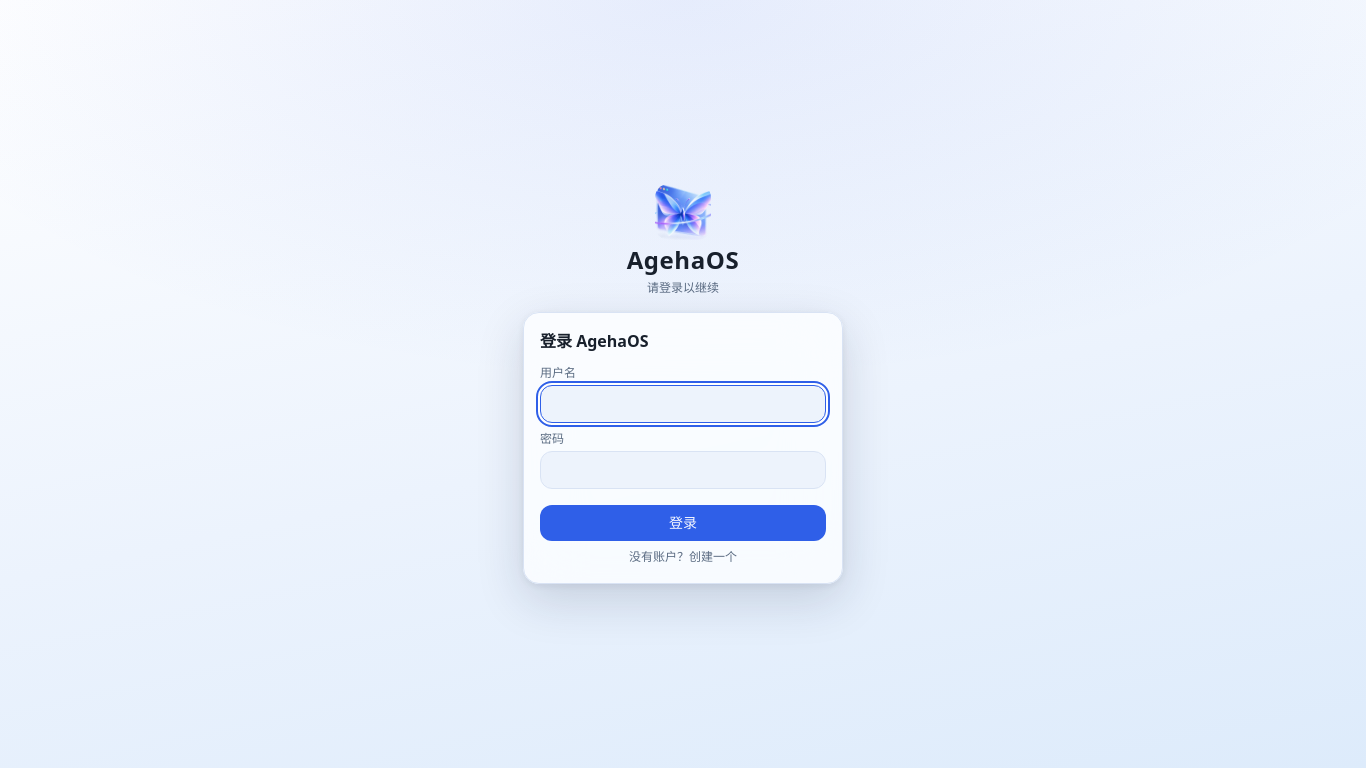
Test: LoginScreen › resets busy even when the sign-in action rejects unexpectedly (E2 审查)
Type "alice" into the field labelled "用户名" at (683, 404), box left=540, top=385, right=826, bottom=423
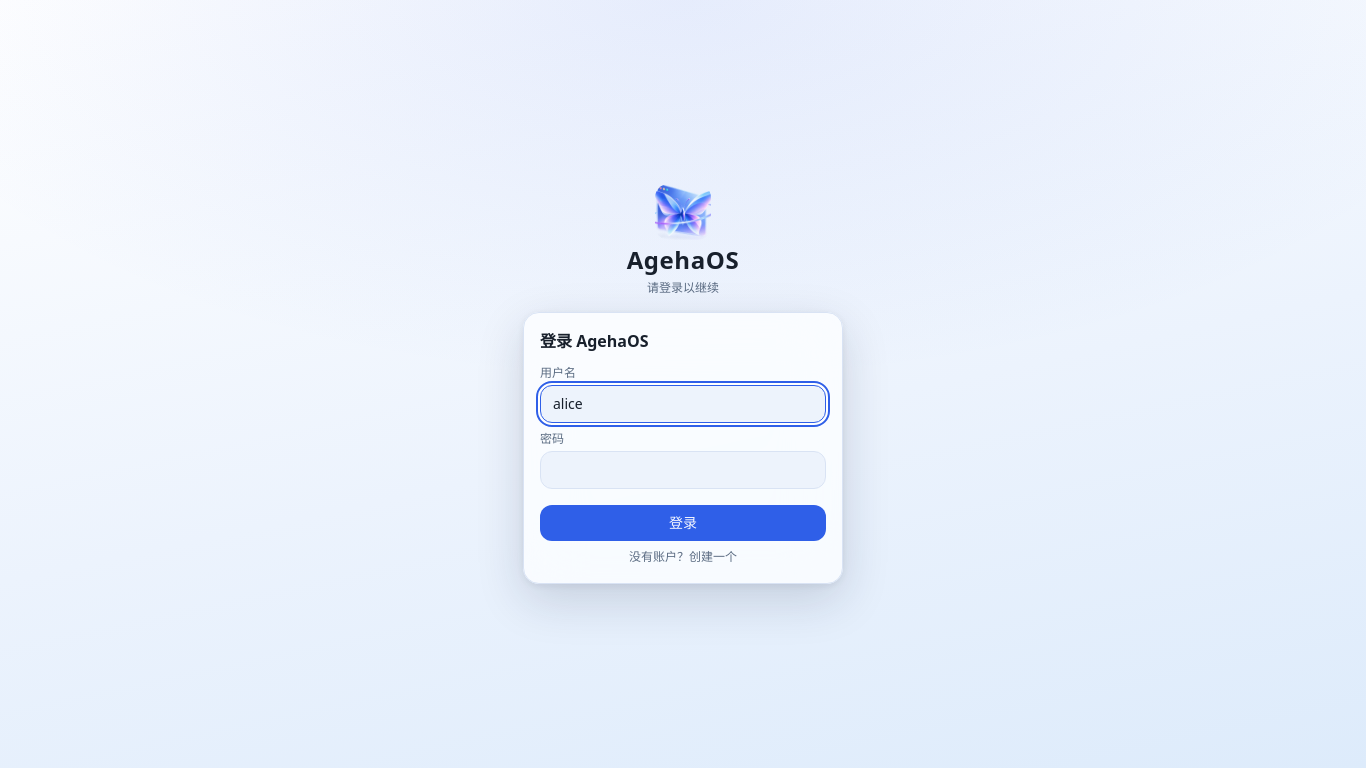
Type "secret123" into the password field labelled "密码" at (683, 470), box left=540, top=451, right=826, bottom=489
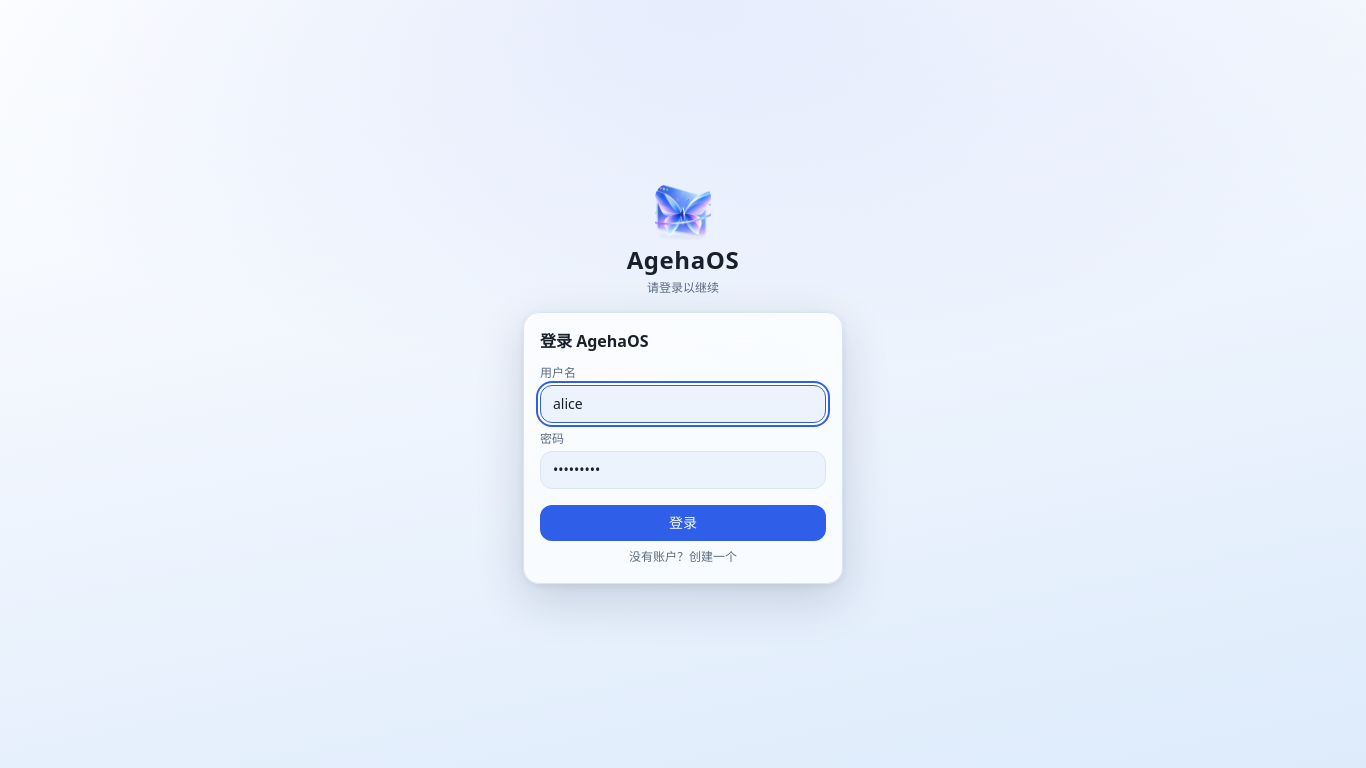
Click the button "登录" at (683, 523), box left=540, top=505, right=826, bottom=541
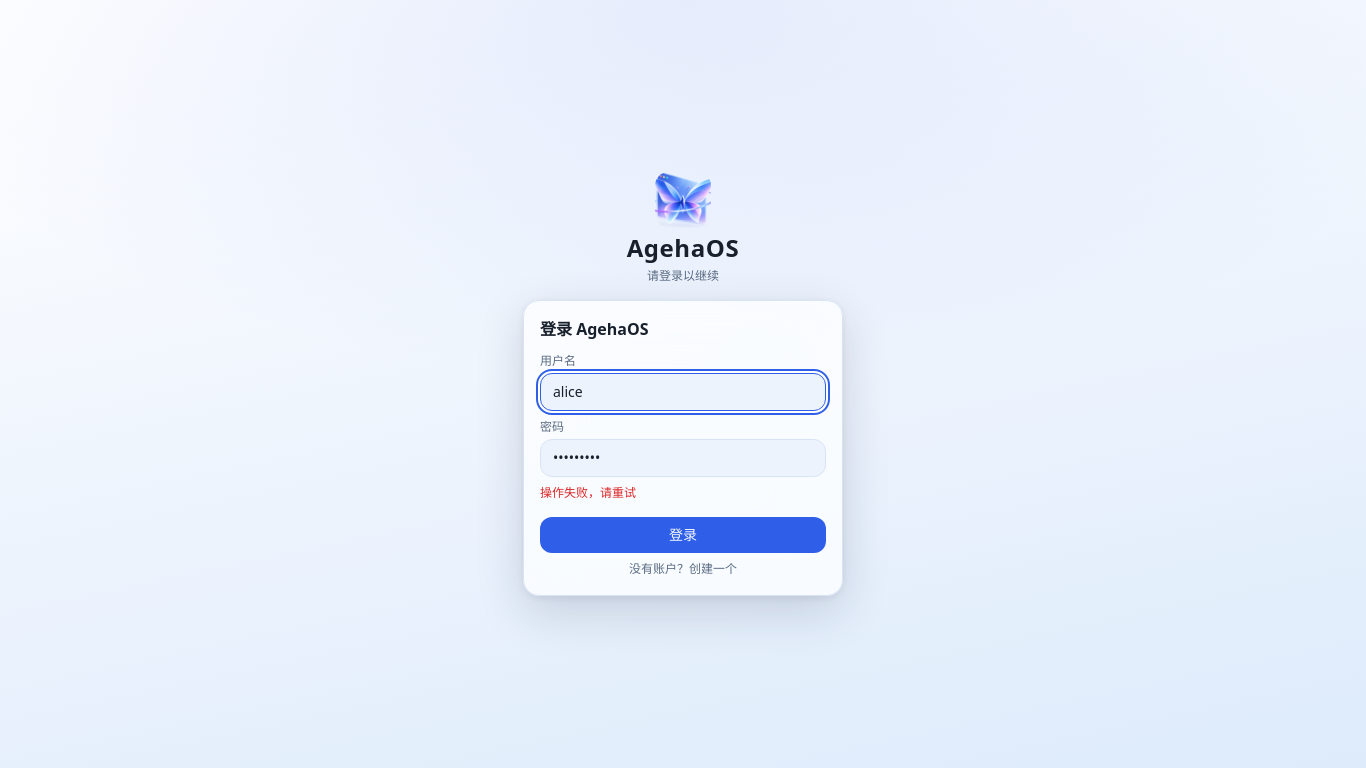
Expected: the button "登录" is enabled, left=540, top=517, right=826, bottom=553
Expected: the message reads "操作失败，请重试", left=540, top=484, right=636, bottom=501
